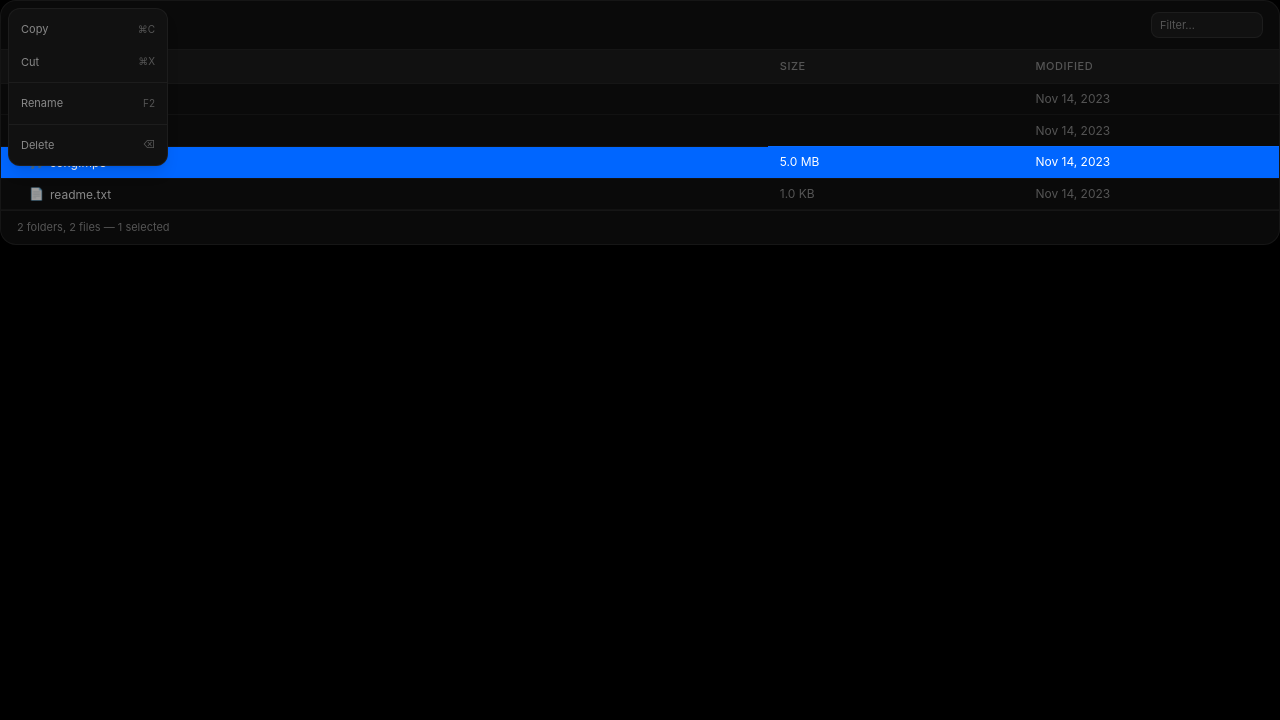
FileExplorer › does not delete files when cancel is clicked in confirm dialog
Expected: the text "song.mp3" is shown, [50,155,107,170]
Click the text "Delete": [38, 145] box [21,136,54,153]
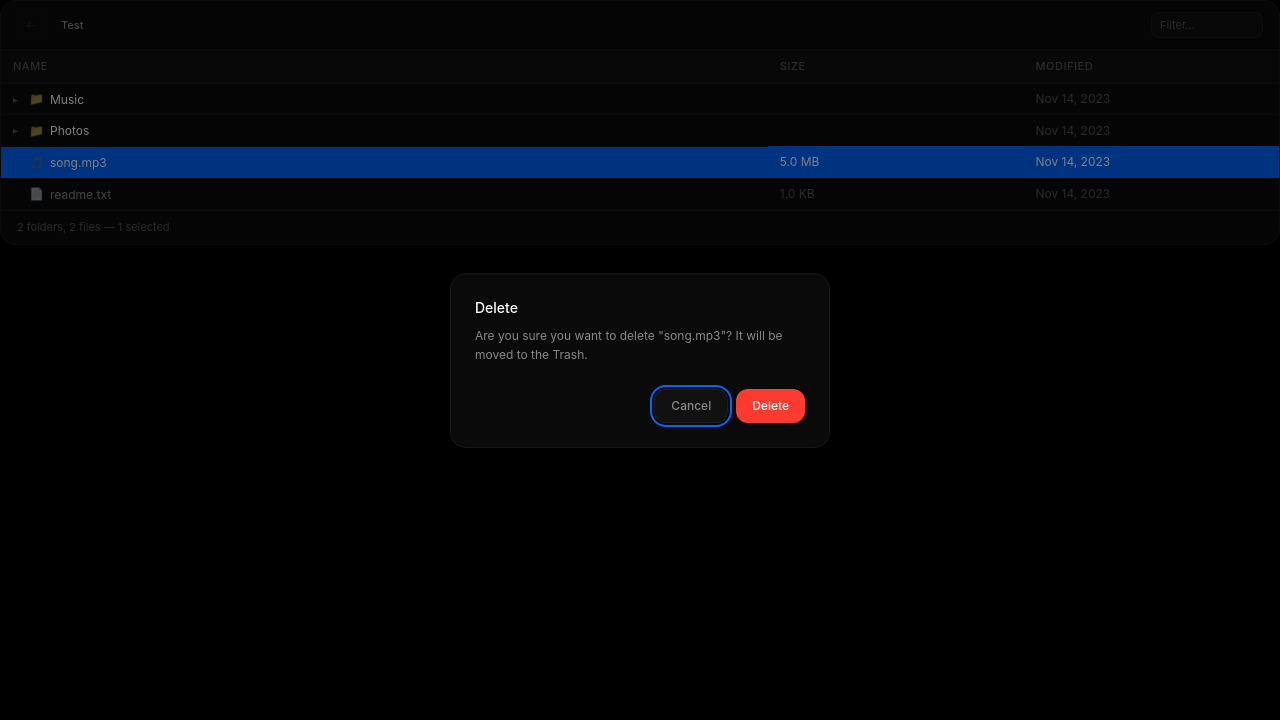
Click the button "Cancel": [691, 406] box [654,388,728,422]
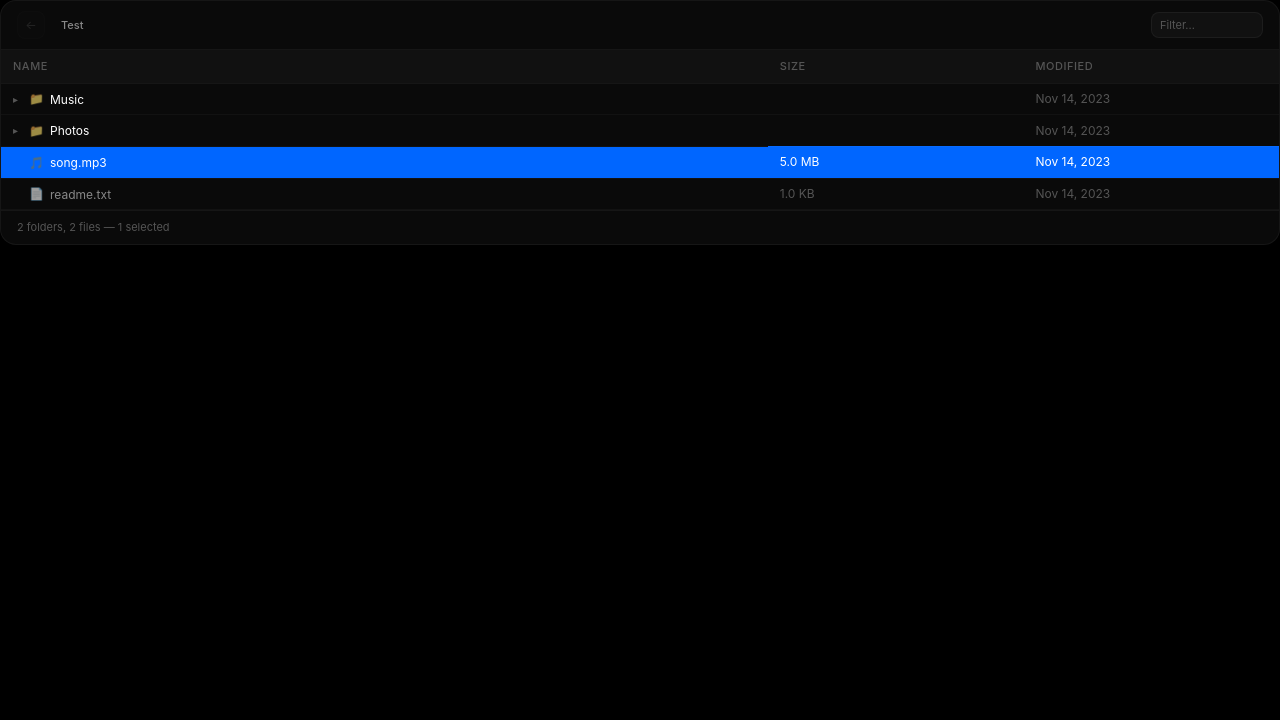
Now the text "Are you sure you want to delete" is gone
